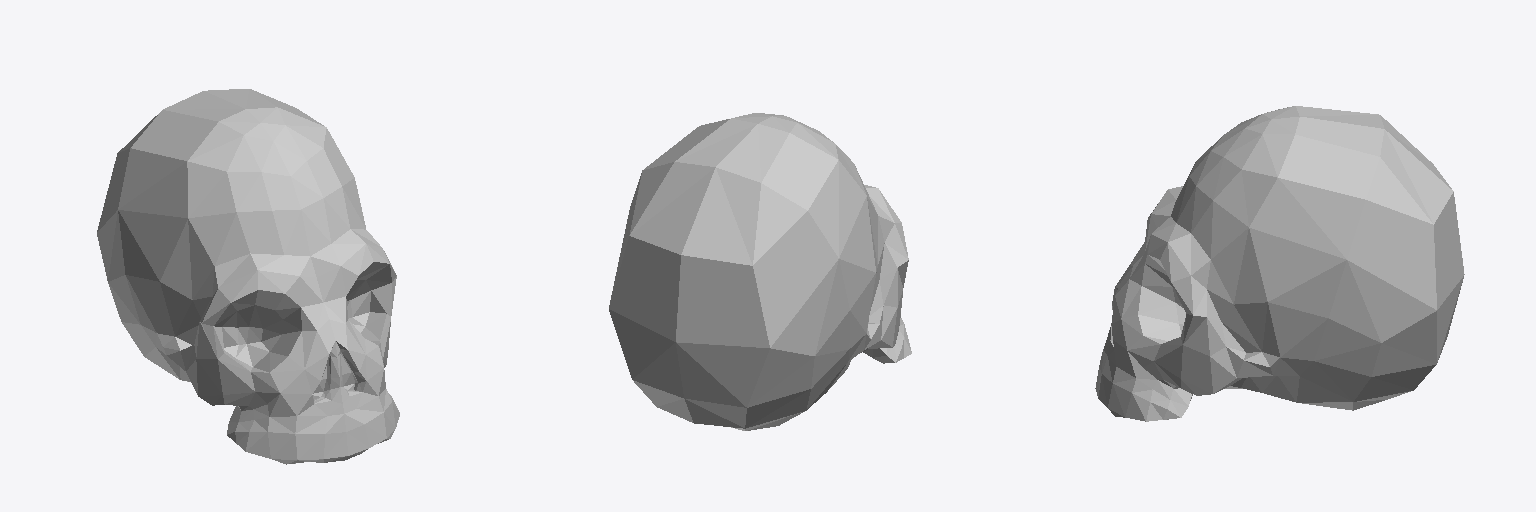
File: M_Skull_Apeish.obj
3 renders of one model, left to right at view 1: azimuth 30°, elevation 25°; view 2: azimuth 150°, elevation 25°; view 3: azimuth 270°, elevation 25°, orthographic.
Bounding box in the file's own units: 26.11 × 32.75 × 39.28.